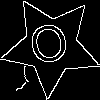O: (26, 21, 74, 75)
